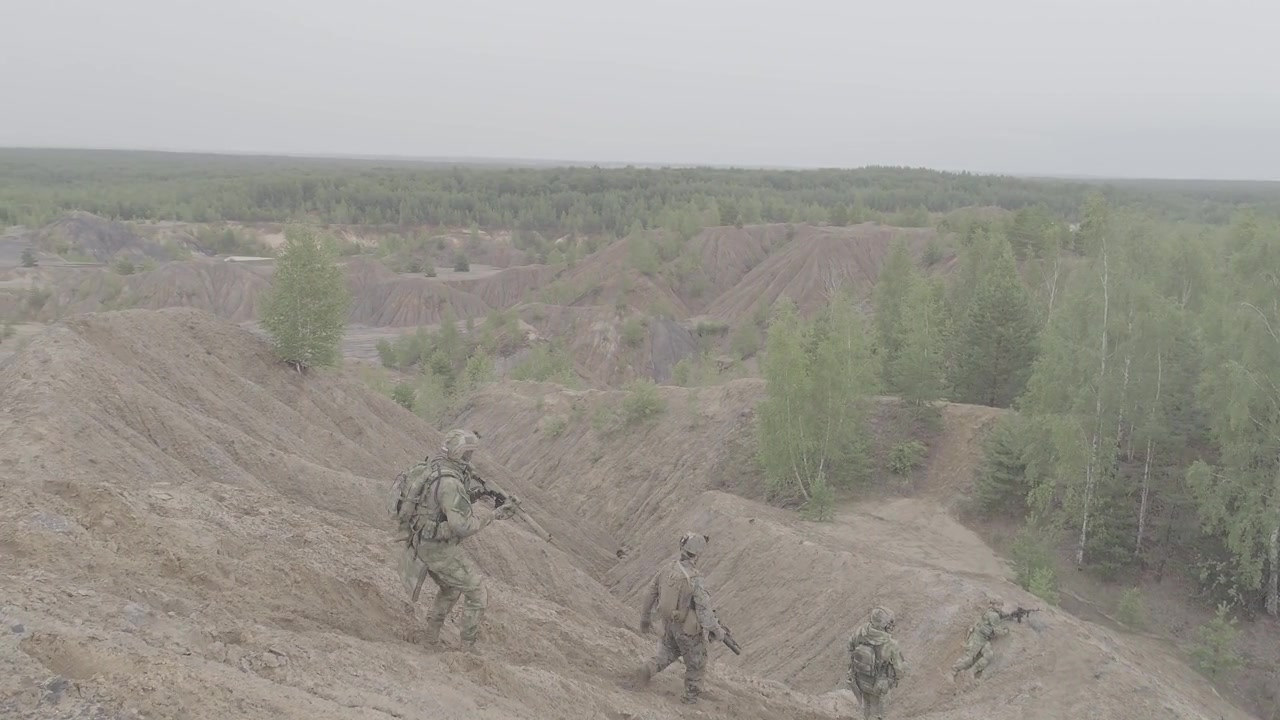person: (388, 417, 500, 650), (609, 514, 714, 697)
